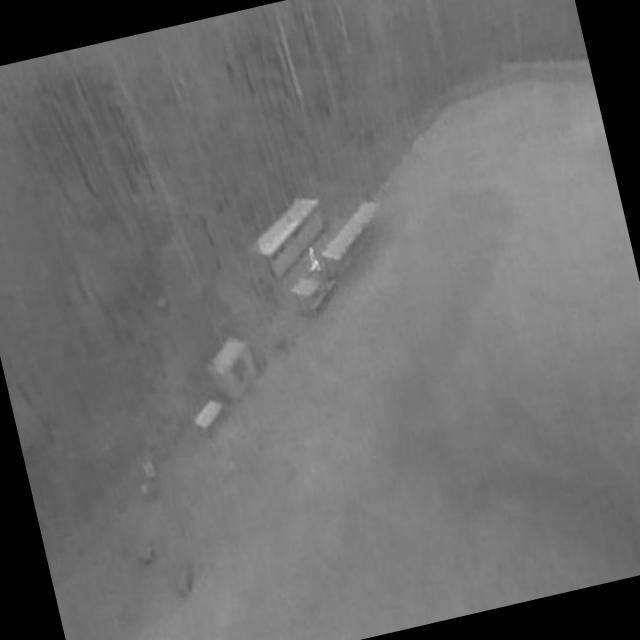person: (305, 245, 323, 274)
